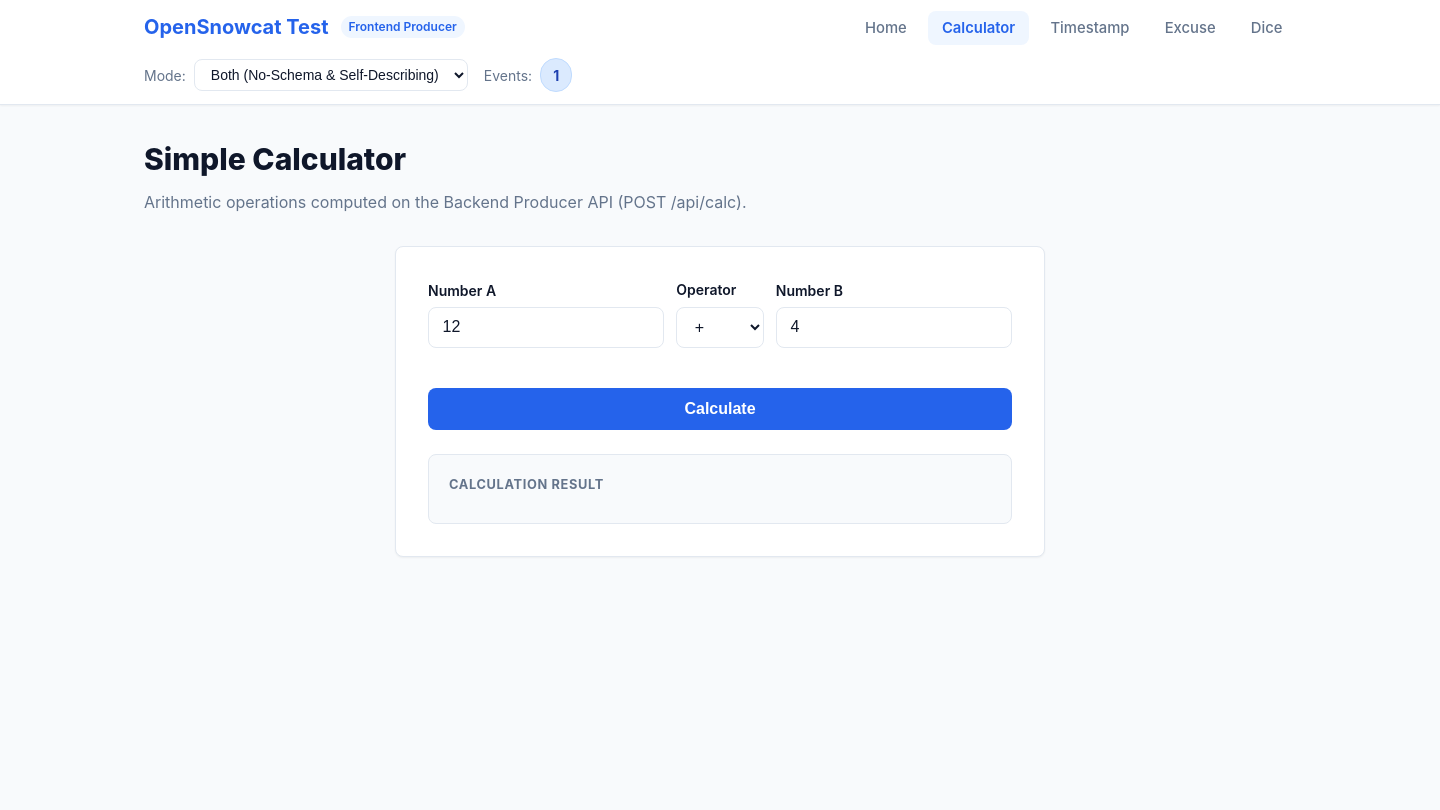
Test: Network and API Error Resilience - End-to-End Integration › renders network error alert when Backend API is unreachable (network failure) on /calc
Expected: the text with test id "frontend-events-counter" reads "1", [553,67,559,84]
Click the button with test id "btn-calc-submit" at coordinates (720, 409), box [428,388,1012,430]
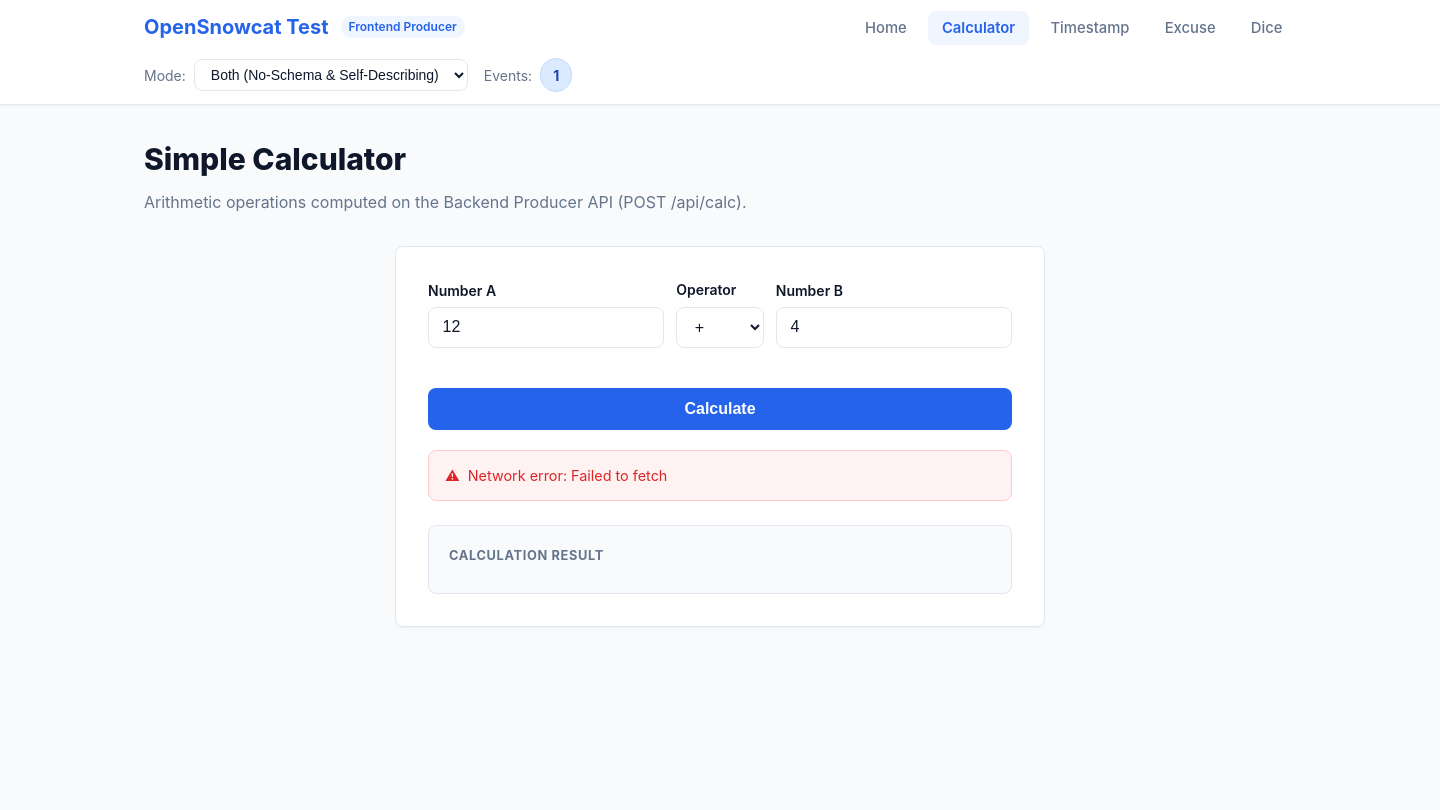
Expected: the message "⚠ Network error: Failed to fetch" is shown, [428,450,1012,501]
Expected: the message shows "Network error: Failed to fetch", [468,467,667,484]
